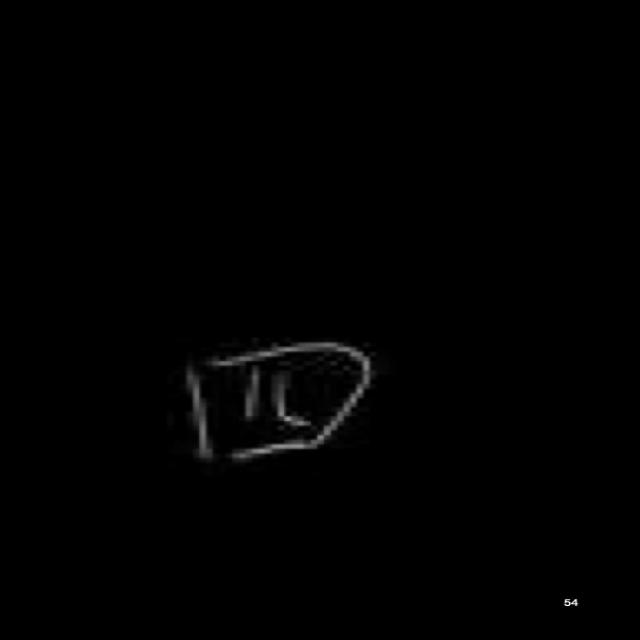4 -four-: (164, 328, 383, 476)
